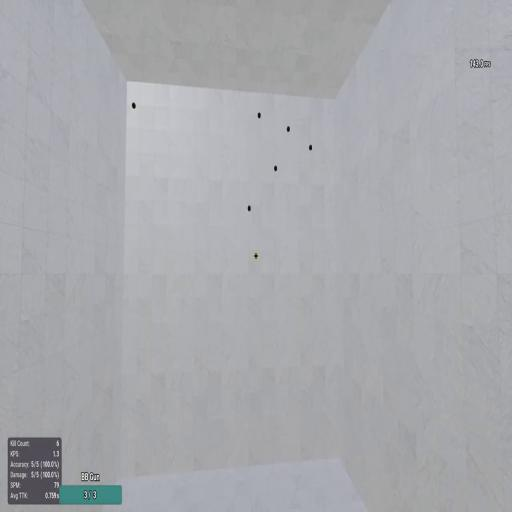Crosshair: (254, 252, 259, 260)
Target: (247, 205, 252, 212), (309, 144, 313, 151), (257, 112, 261, 118), (132, 102, 136, 108), (274, 165, 277, 172), (287, 126, 290, 133)
